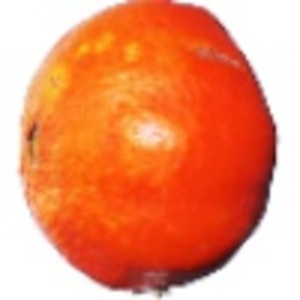tangerina: (16, 1, 281, 300)
